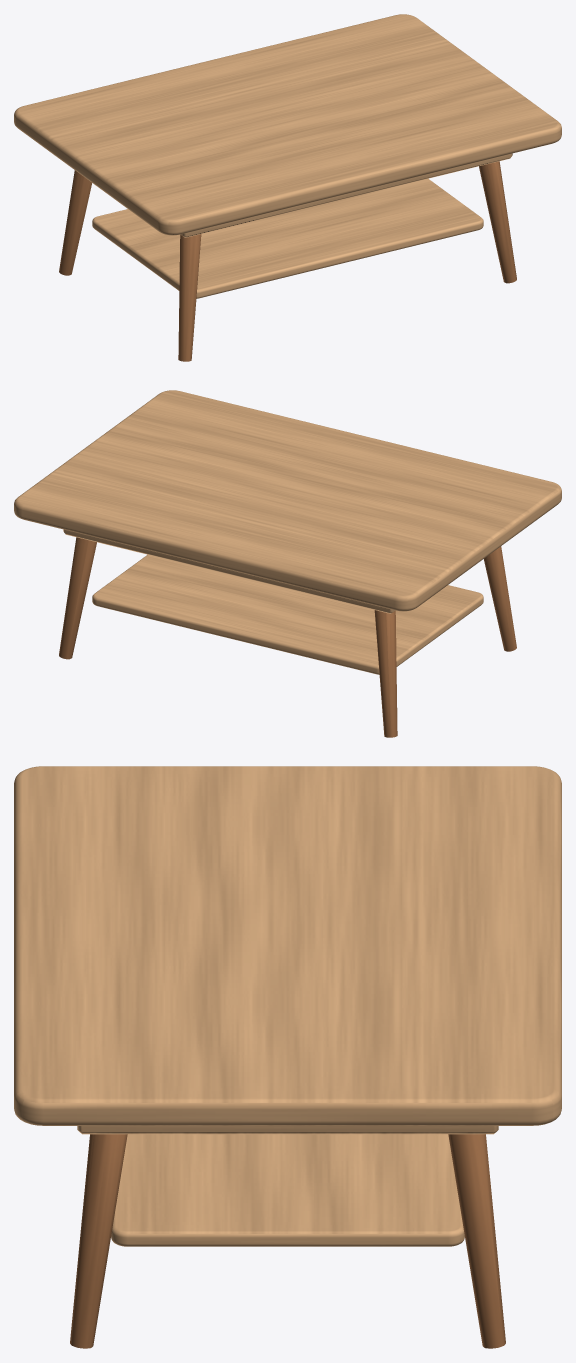
File: prop_coffee_table.glb
3 renders of one model, top to bottom at view 1: azimuth 30°, elevation 25°; view 2: azimuth 150°, elevation 25°; view 3: azimuth 270°, elevation 25°, orthographic. The views are drawn at different scales.
Parts seen in each view (by area): view 1: prop_coffee_table; view 2: prop_coffee_table; view 3: prop_coffee_table.
Boxes of the visible parts, <box> form: prop_coffee_table: <box>14,14,561,361</box>; prop_coffee_table: <box>14,390,561,737</box>; prop_coffee_table: <box>14,766,561,1348</box>.
Bounding box in the file's own units: 1.19 × 0.4531 × 0.8125.
Materials: 2 (2 with a texture image).
